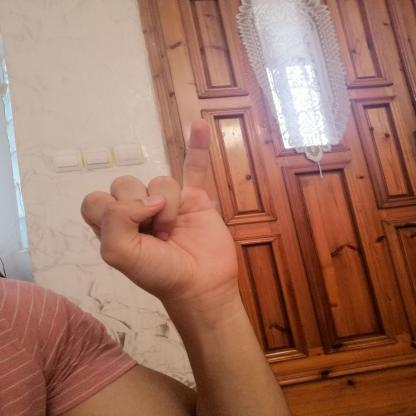MEEM: (60, 110, 267, 310)
